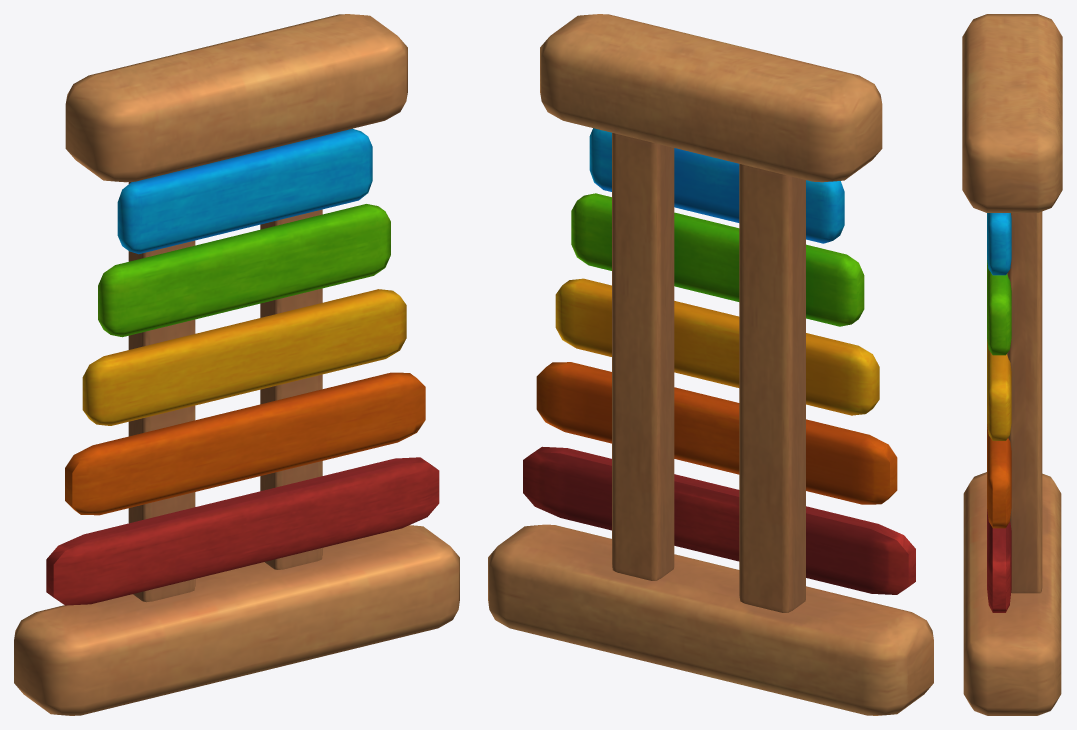
File: xylophone.fbx
The picture shows the model from 3 angles, left to right: view 1: azimuth 30°, elevation 25°; view 2: azimuth 150°, elevation 25°; view 3: azimuth 270°, elevation 25°; orthographic projection. The views are drawn at different scales.
Parts seen in each view (by area): view 1: xylophone; view 2: xylophone; view 3: xylophone.
Part boxes in pixels (bbox=[...]): xylophone: bbox=[14, 14, 459, 715]; xylophone: bbox=[488, 14, 933, 715]; xylophone: bbox=[962, 14, 1062, 715].
Bounding box in the file's own units: 59.73 × 82.8 × 13.48.
